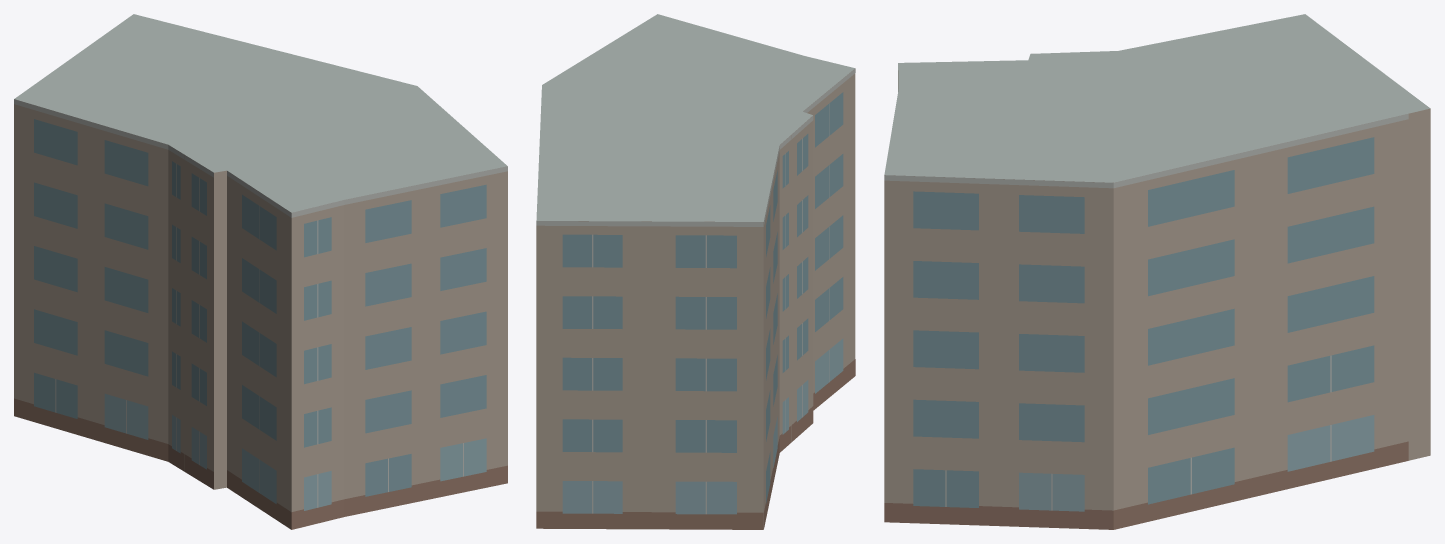
Rendered from survey-upis-32759047.glb.
3 views of the same model, side by side, from view 1: azimuth 30°, elevation 25°; view 2: azimuth 150°, elevation 25°; view 3: azimuth 270°, elevation 25° (orthographic). The views are drawn at different scales.
Visible parts, largest first — view 1: survey-upis-32759047.tmp; view 2: survey-upis-32759047.tmp; view 3: survey-upis-32759047.tmp.
Part boxes in pixels (x1,y1,x2,y2): survey-upis-32759047.tmp: [14, 14, 507, 529]; survey-upis-32759047.tmp: [536, 14, 855, 529]; survey-upis-32759047.tmp: [884, 14, 1430, 529].
Size of the model in its own units: 15.91 by 15.25 by 21.76.
